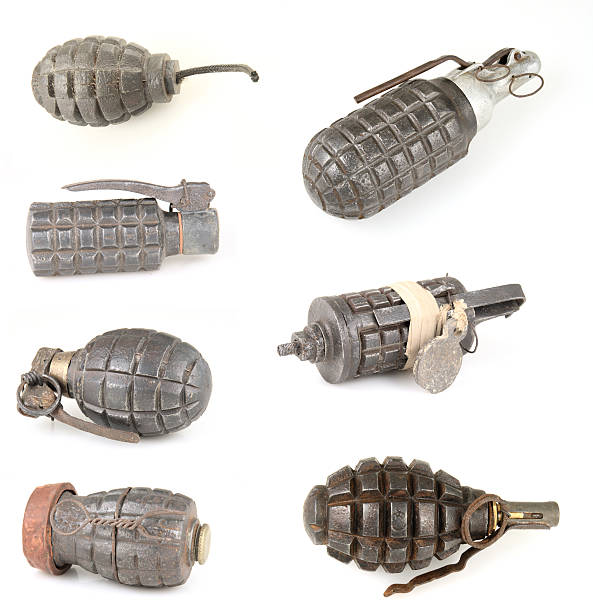e1: (302, 45, 543, 218), (303, 457, 561, 595), (279, 274, 529, 391), (13, 326, 214, 443), (23, 486, 213, 593), (23, 180, 221, 278), (28, 36, 205, 124)
